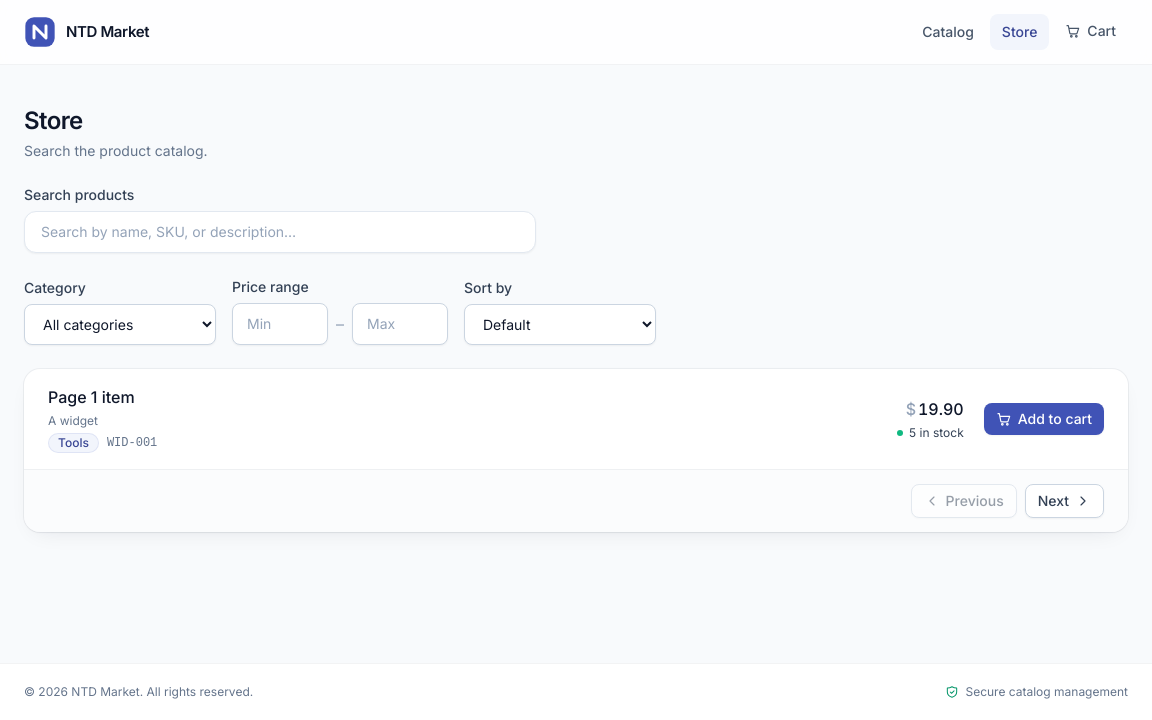
Test: StoreSearchPage — keyset pagination (SPEC-008) › requests the next page with the returned cursor when Next is clicked
Expected: the text "Page 1 item" is shown, [48, 387, 135, 407]
Click the button "Next".
click(1064, 501)  # box [1025, 484, 1104, 518]
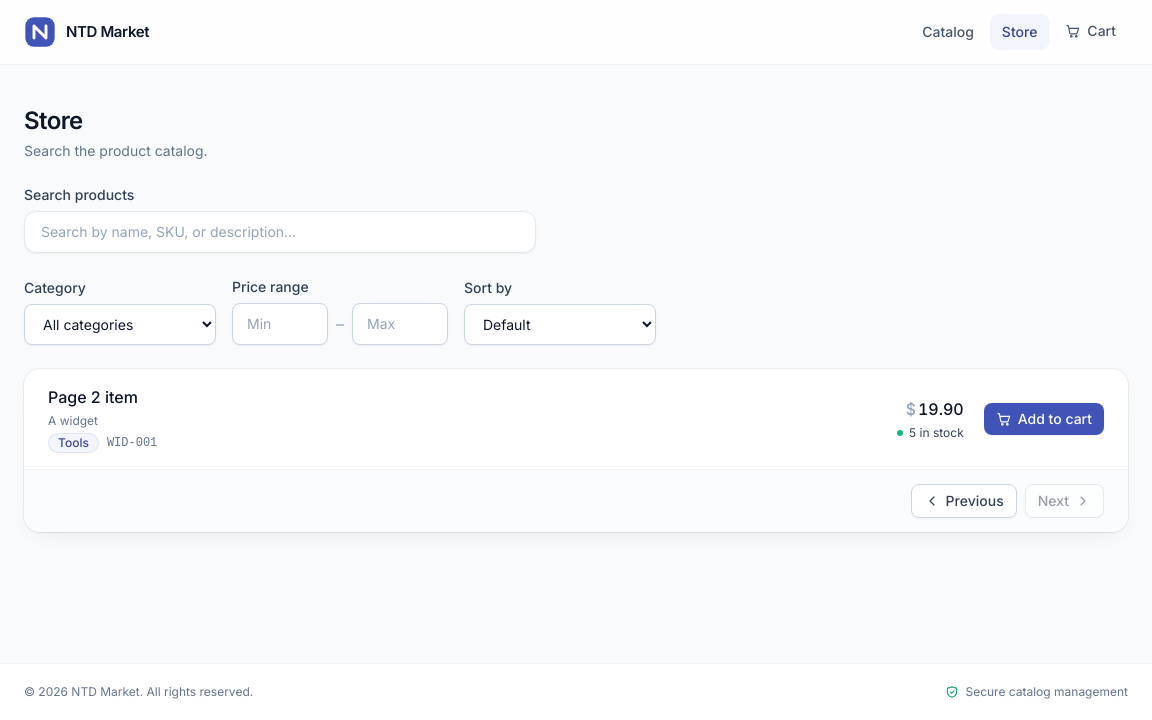
Expected: the text "Page 2 item" is shown, [48, 387, 138, 407]
